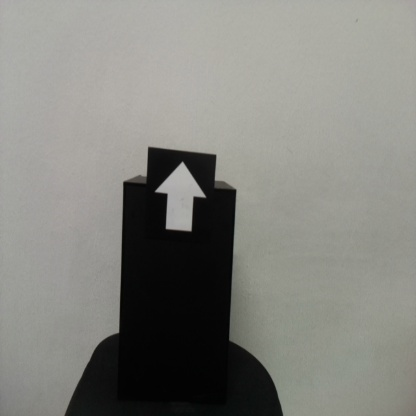id_1: (147, 151, 216, 244)
